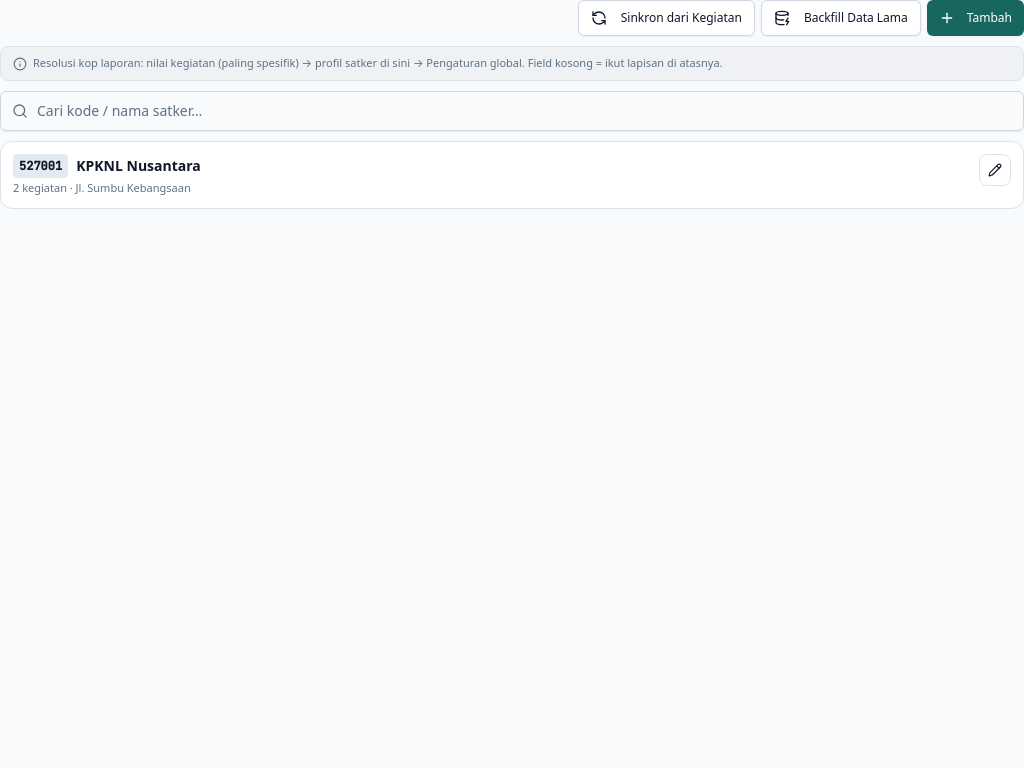
it: referensi pejabat gagal dimuat tidak menggagalkan dialog profil
Click the button with test id "satker-edit-527001" at (995, 170), box [979,154,1011,186]
(page scrolled)
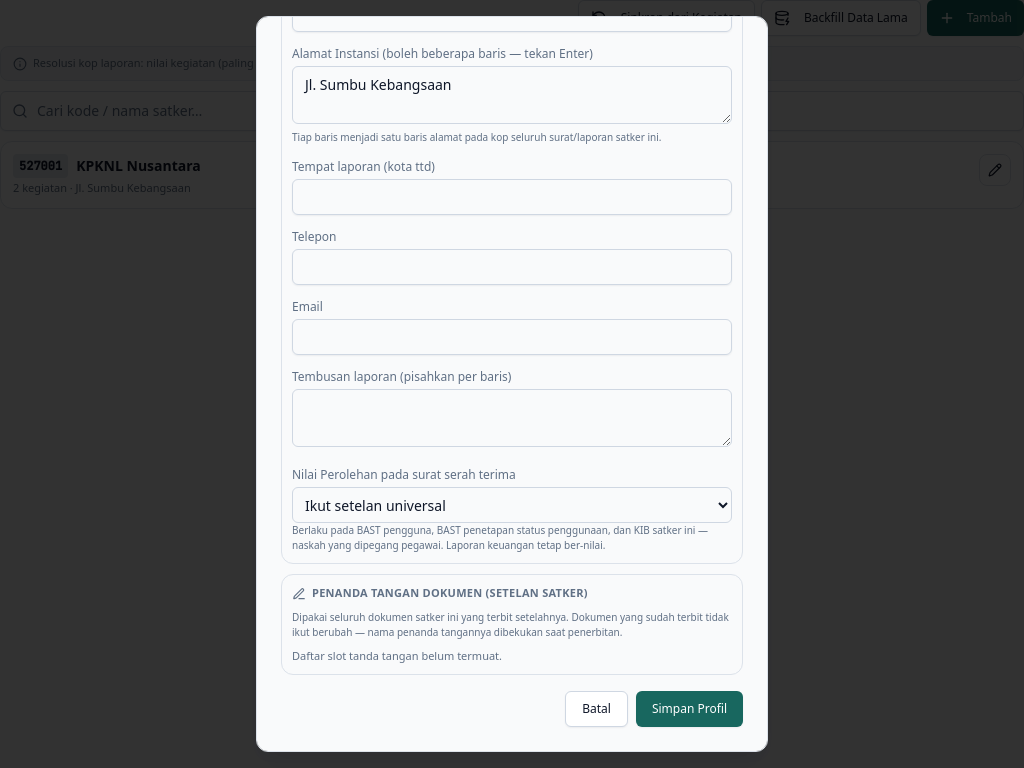
Result: the text "Daftar slot tanda tangan belum termuat." is shown at [292,648,502,663]
